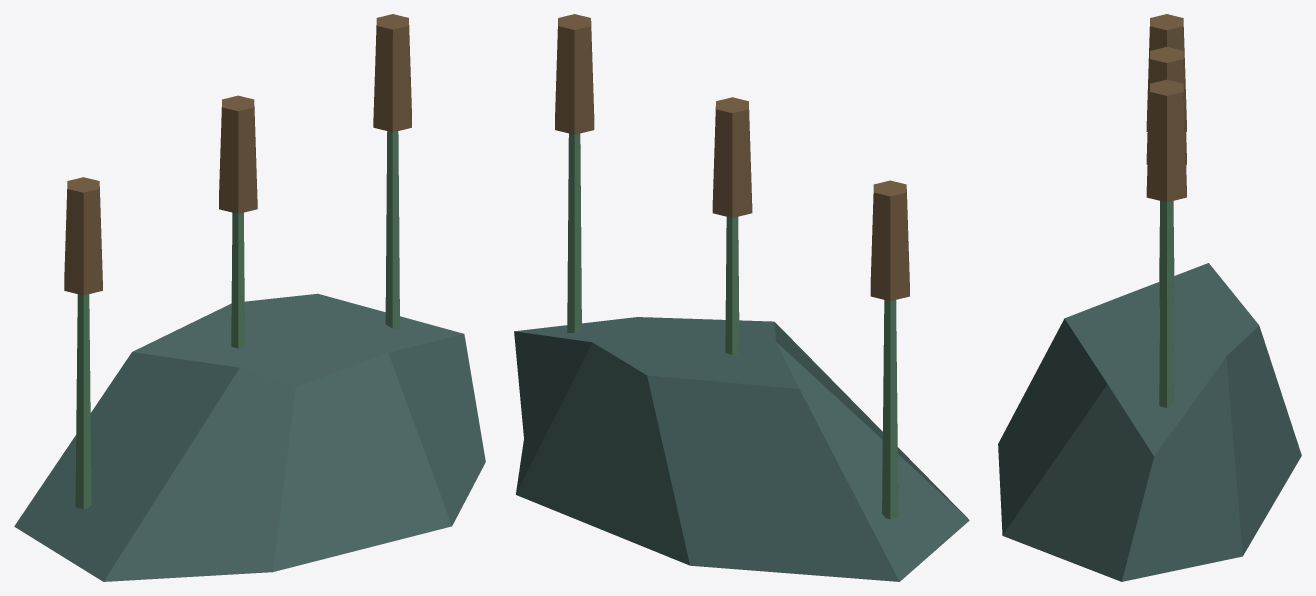
File: map-boundaries-v5__lake_04.glb
3 renders of one model, left to right at view 1: azimuth 30°, elevation 25°; view 2: azimuth 150°, elevation 25°; view 3: azimuth 270°, elevation 25°, orthographic. The views are drawn at different scales.
Parts seen in each view (by area): view 1: lake_04; view 2: lake_04; view 3: lake_04.
Boxes of the visible parts, x1,y1,x2,y2 form: lake_04: [14, 14, 485, 581]; lake_04: [514, 14, 969, 581]; lake_04: [998, 14, 1301, 581].
Bounding box in the file's own units: 1.3 × 1.31 × 0.7875.
